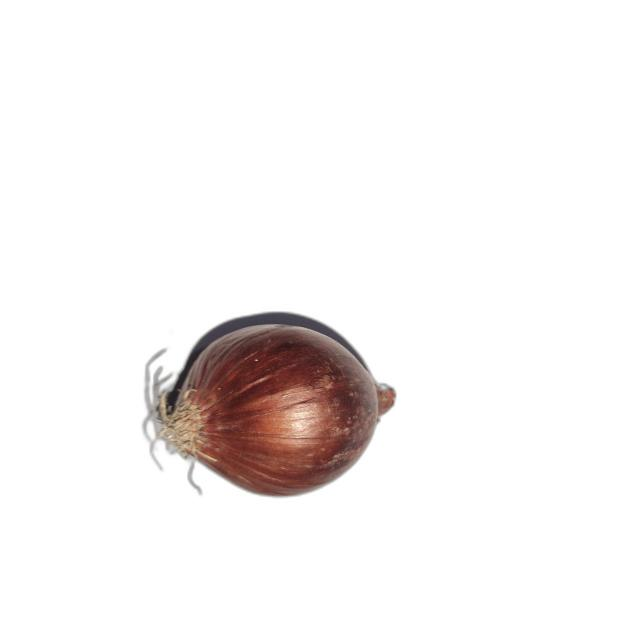onion: (141, 323, 396, 500)
